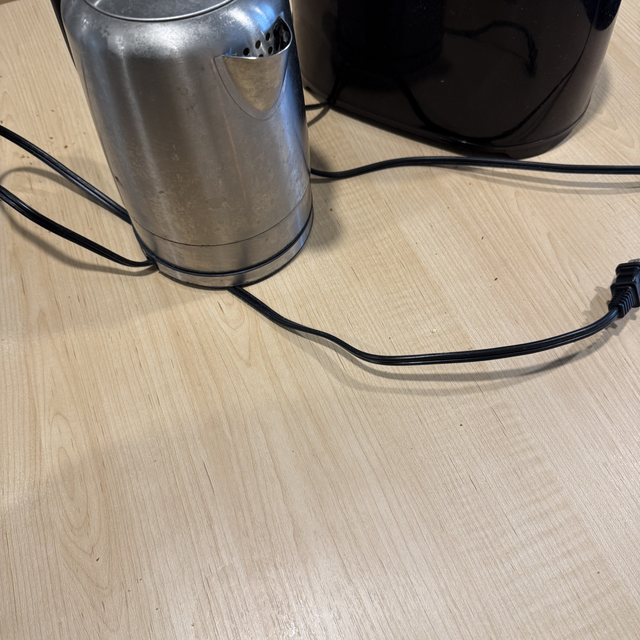Kettle: (35, 0, 336, 280)
Toaster: (285, 0, 635, 169)
